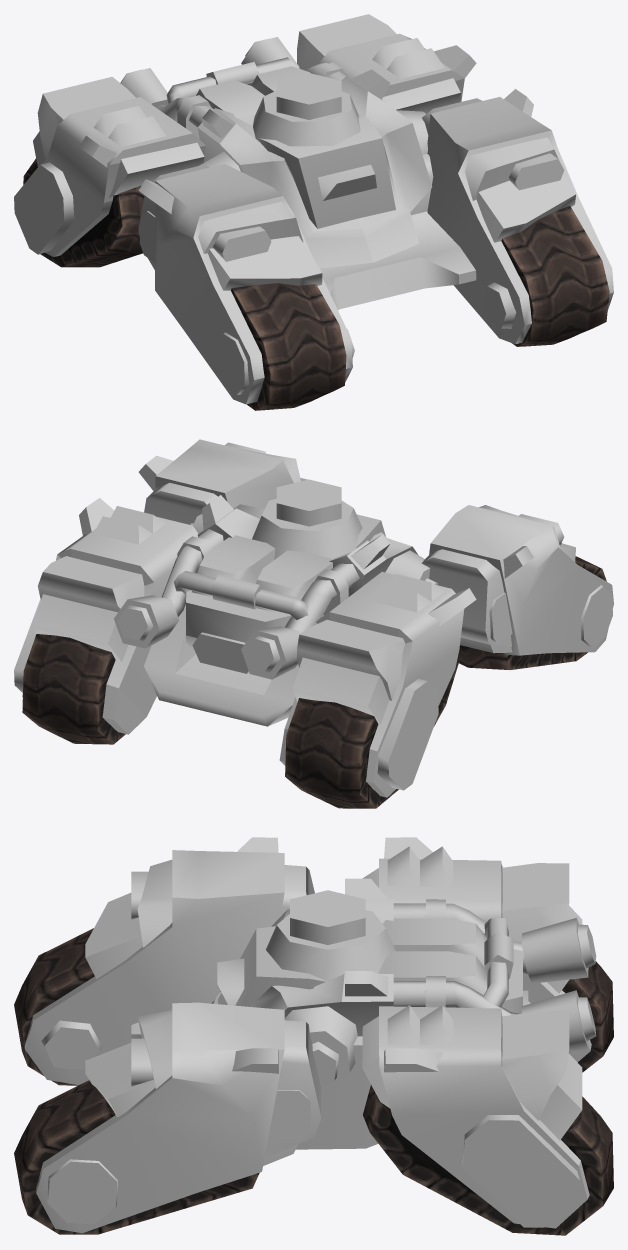
Rendered from Chassis_Tank_Lvl3.fbx.
The picture shows the model from 3 angles, top to bottom: view 1: azimuth 30°, elevation 25°; view 2: azimuth 150°, elevation 25°; view 3: azimuth 270°, elevation 25°; orthographic projection. The views are drawn at different scales.
Visible parts, largest first — view 1: Body_Geom, Part_FR_Geom, Part_FL_Geom, Part_RR_Geom, Tracks_FR_Geom, Tracks_FL_Geom, Part_RL_Geom, Tracks_RR_Geom; view 2: Body_Geom, Part_RR_Geom, Part_FR_Geom, Part_RL_Geom, Part_FL_Geom, Tracks_RR_Geom, Tracks_RL_Geom, Tracks_FR_Geom; view 3: Part_FL_Geom, Body_Geom, Part_RL_Geom, Part_FR_Geom, Part_RR_Geom, Tracks_RL_Geom, Tracks_FL_Geom, Tracks_FR_Geom, Tracks_RR_Geom.
Boxes of the visible parts, x1,y1,x2,y2 form: Body_Geom: (120, 37, 476, 309); Part_FR_Geom: (138, 164, 354, 404); Part_FL_Geom: (422, 89, 613, 344); Part_RR_Geom: (14, 76, 205, 256); Tracks_FR_Geom: (231, 283, 346, 410); Tracks_FL_Geom: (501, 205, 609, 346); Part_RL_Geom: (297, 14, 476, 113); Tracks_RR_Geom: (23, 158, 144, 267); Body_Geom: (114, 479, 430, 726); Part_RR_Geom: (279, 572, 476, 797); Part_FR_Geom: (421, 505, 613, 655); Part_RL_Geom: (14, 498, 198, 734); Part_FL_Geom: (138, 439, 307, 525); Tracks_RR_Geom: (285, 652, 459, 808); Tracks_RL_Geom: (22, 634, 125, 744); Tracks_FR_Geom: (459, 556, 606, 669); Part_FL_Geom: (36, 1002, 338, 1233); Body_Geom: (131, 878, 596, 1149); Part_RL_Geom: (362, 1005, 589, 1228); Part_FR_Geom: (25, 837, 314, 1085); Part_RR_Geom: (362, 837, 591, 1062); Tracks_RL_Geom: (363, 1085, 613, 1235); Tracks_FL_Geom: (14, 1080, 259, 1234); Tracks_FR_Geom: (14, 928, 94, 1085); Tracks_RR_Geom: (562, 961, 613, 1072).
Size of the model in its own units: 431 by 220 by 499.
